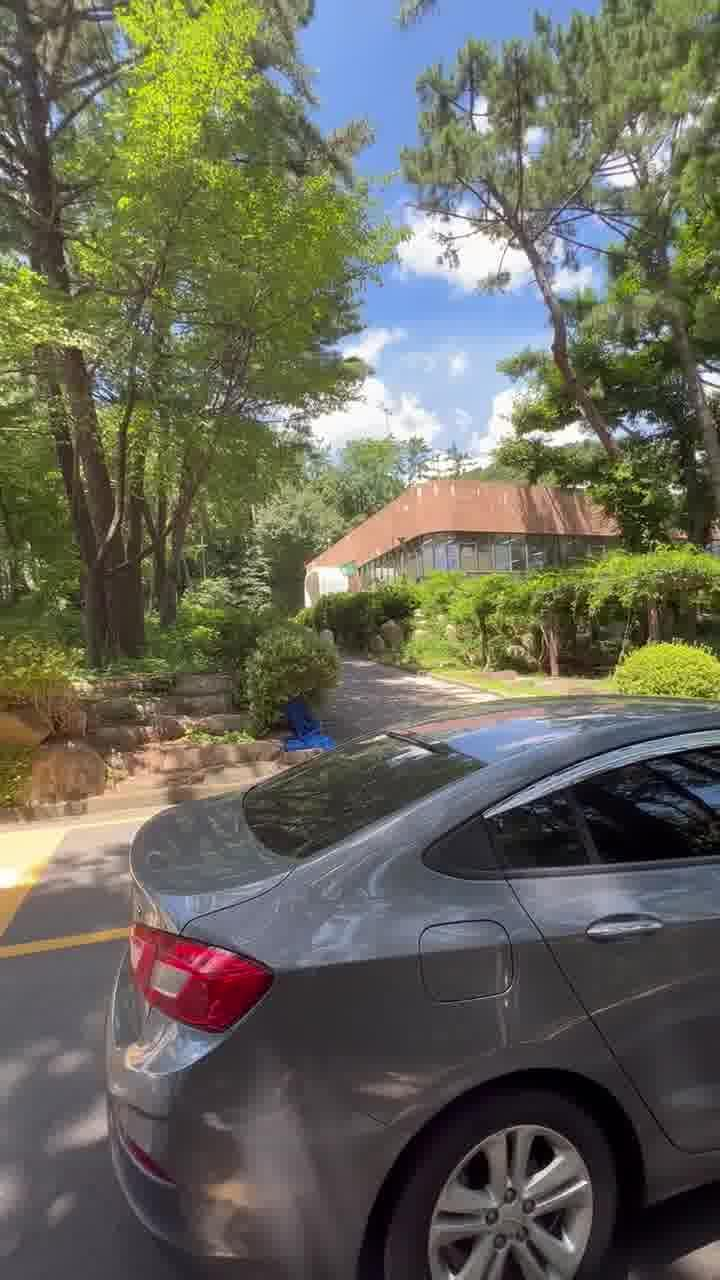building: (314, 448, 626, 596)
